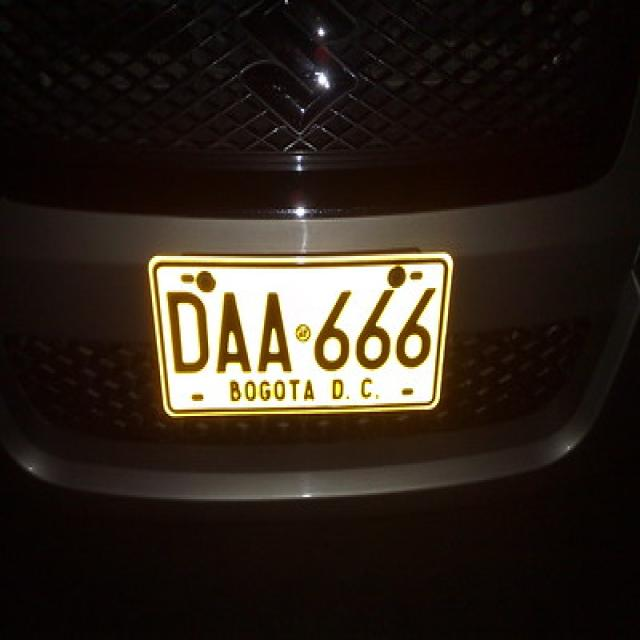placa_carro: (142, 240, 463, 424)
